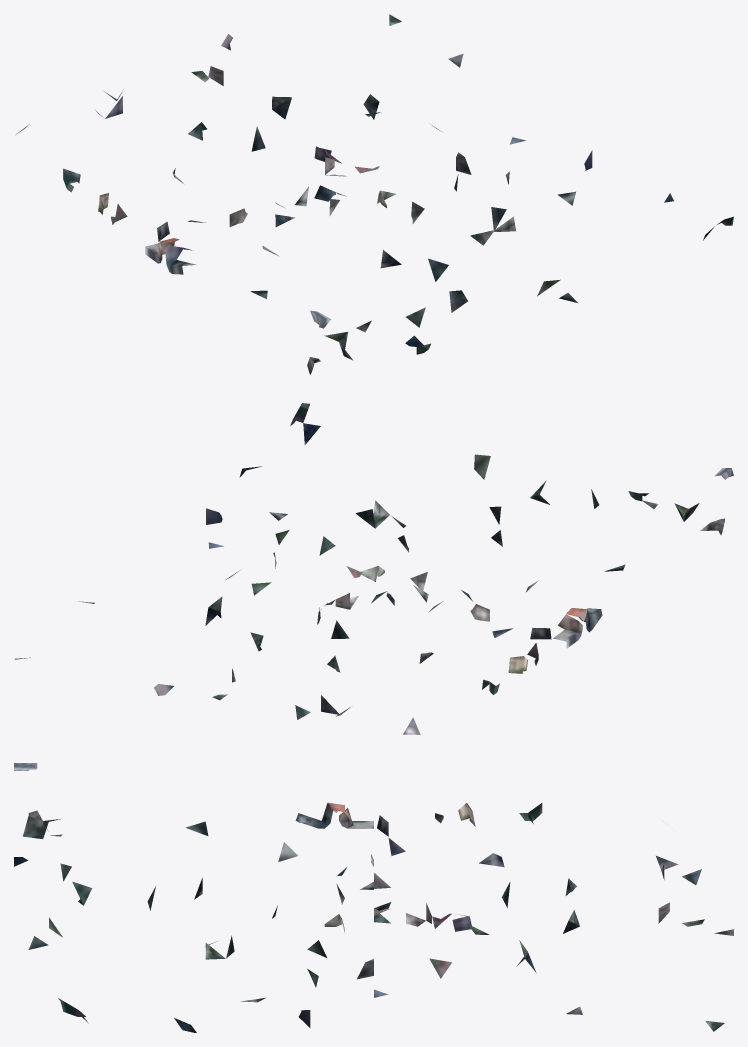
The picture shows the model from 3 angles, top to bottom: view 1: azimuth 30°, elevation 25°; view 2: azimuth 150°, elevation 25°; view 3: azimuth 270°, elevation 25°; orthographic projection. The views are drawn at different scales.
Parts seen in each view (by area): view 1: 30436272704361705_1; view 2: 30436272704361705_1; view 3: 30436272704361705_1.
Boxes of the visible parts, x1=… form: 30436272704361705_1: x1=16, y1=14, x2=733, y2=374; 30436272704361705_1: x1=15, y1=403, x2=733, y2=734; 30436272704361705_1: x1=14, y1=763, x2=733, y2=1032.
Bounding box in the file's own units: 220 × 30.82 × 306.
1 material, 1 textured.
